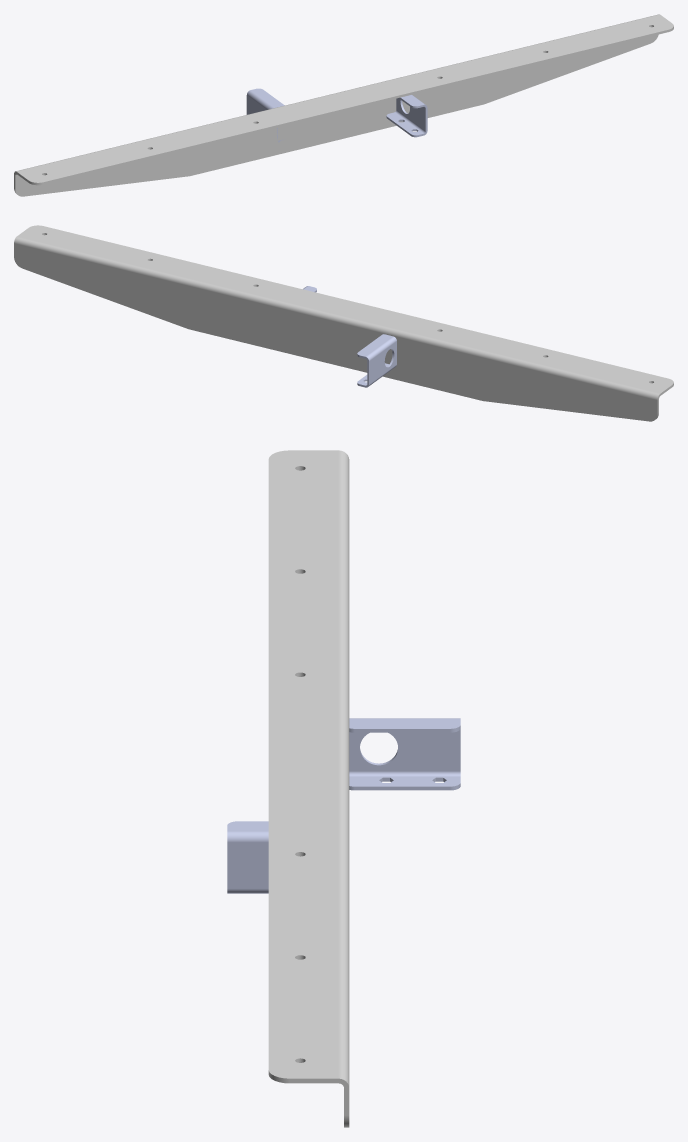
File: TOP_SUPPORT_BRACKET_ASSEMBLY.gltf
The picture shows the model from 3 angles, top to bottom: view 1: azimuth 30°, elevation 25°; view 2: azimuth 150°, elevation 25°; view 3: azimuth 270°, elevation 25°; orthographic projection. The views are drawn at different scales.
Visible parts, largest first — view 1: TOP SUPPORT BRACKET BODY BEND AND DEVELOP-1, TOP BRKT CONNECTION BRKT-1, TOP SUPPORT BRACKET; view 2: TOP SUPPORT BRACKET BODY BEND AND DEVELOP-1, TOP SUPPORT BRACKET; view 3: TOP SUPPORT BRACKET BODY BEND AND DEVELOP-1, TOP SUPPORT BRACKET, TOP BRKT CONNECTION BRKT-1.
Part boxes in pixels (bbox=[...]): TOP SUPPORT BRACKET BODY BEND AND DEVELOP-1: bbox=[14, 14, 673, 196]; TOP BRKT CONNECTION BRKT-1: bbox=[386, 95, 427, 137]; TOP SUPPORT BRACKET: bbox=[246, 88, 284, 142]; TOP SUPPORT BRACKET BODY BEND AND DEVELOP-1: bbox=[14, 225, 673, 421]; TOP SUPPORT BRACKET: bbox=[357, 334, 396, 387]; TOP SUPPORT BRACKET BODY BEND AND DEVELOP-1: bbox=[268, 450, 349, 1127]; TOP SUPPORT BRACKET: bbox=[349, 718, 460, 790]; TOP BRKT CONNECTION BRKT-1: bbox=[227, 821, 268, 893].
Bounding box in the file's own units: 0.7 × 0.05 × 0.11.
